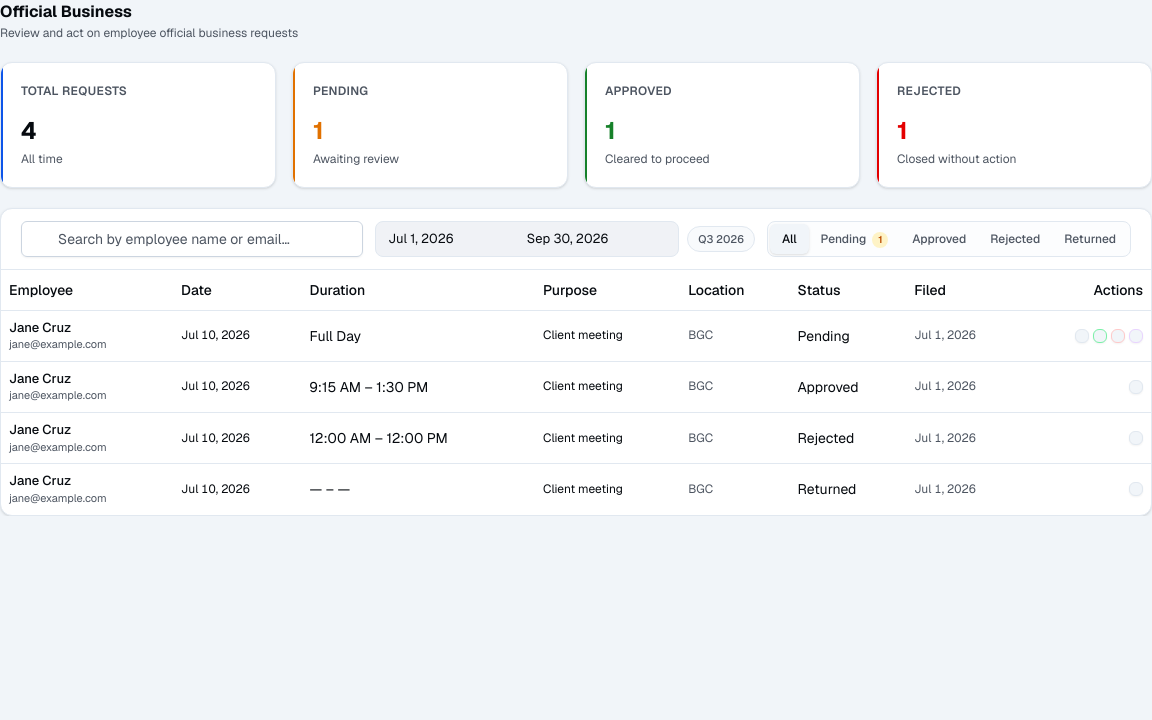
ObManagementSection — review modal (view mode) › view mode with a remark but no reviewer omits the attribution line
Click the button with test id "ob-view" at (1136,489), box [1129,482,1143,496]
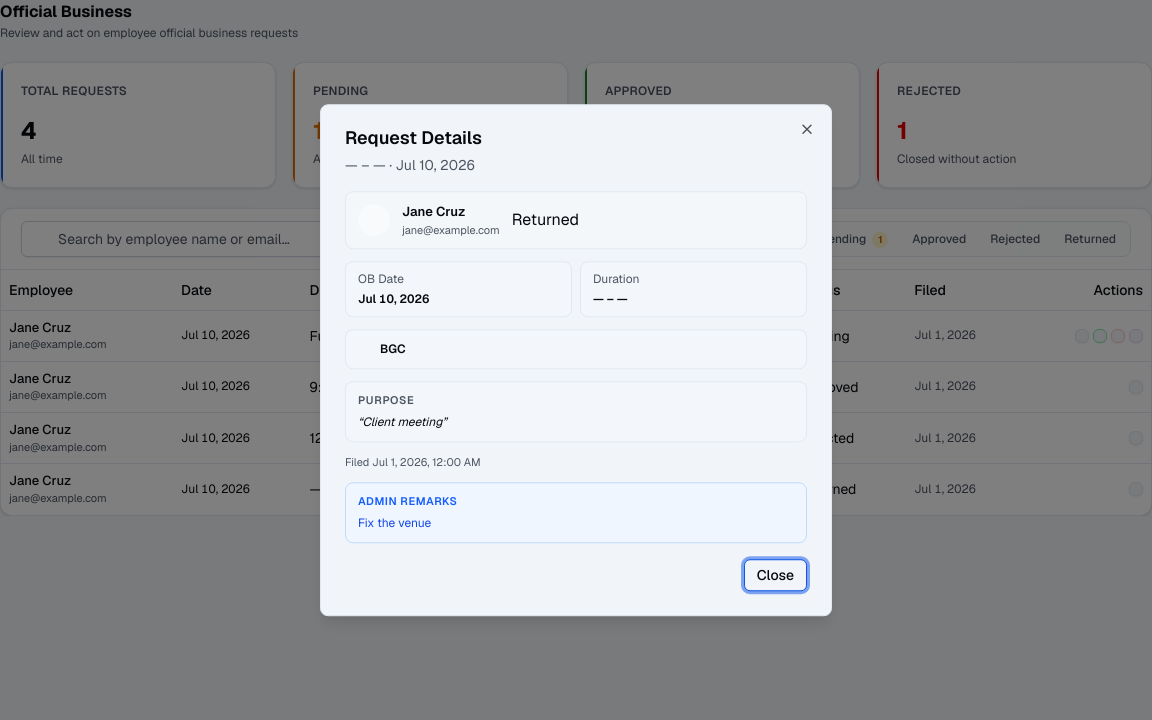
Now the text "Fix the venue" is shown, box [358,515,431,531]
